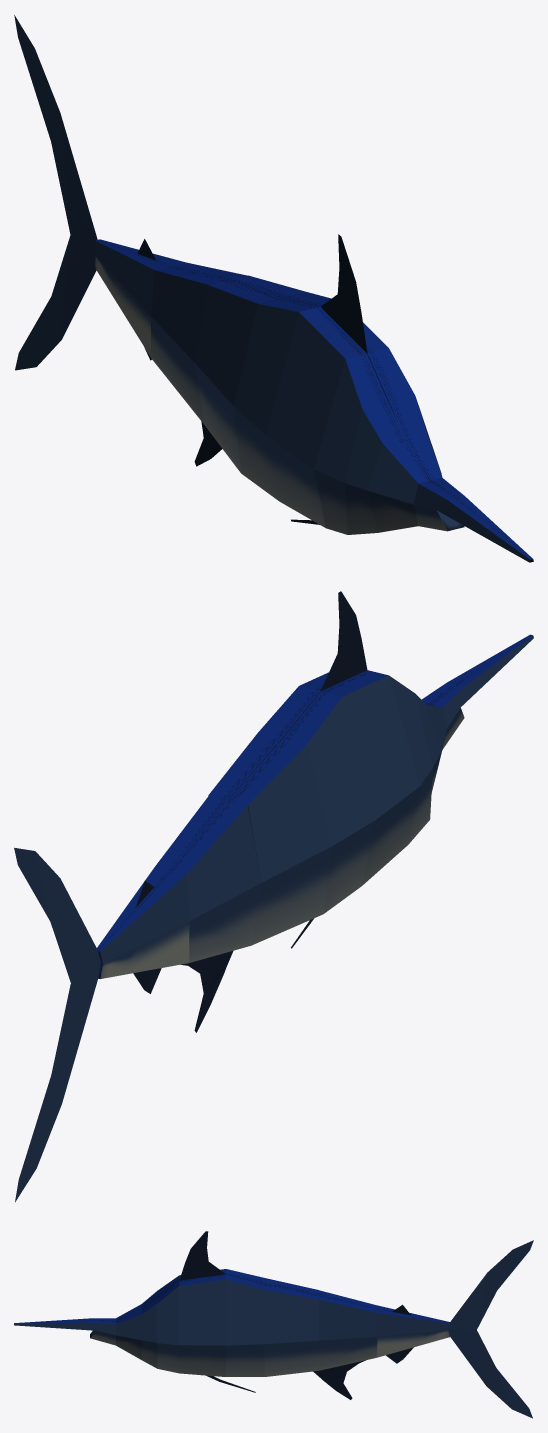
Rendered from fish_1.glb.
3 renders of one model, top to bottom at view 1: azimuth 30°, elevation 25°; view 2: azimuth 150°, elevation 25°; view 3: azimuth 270°, elevation 25°, orthographic. The views are drawn at different scales.
Visible parts, largest first — view 1: Cube_Material.006_0; view 2: Cube_Material.006_0; view 3: Cube_Material.006_0.
Part boxes in pixels (x1,y1,x2,y2): Cube_Material.006_0: (14,15,533,562); Cube_Material.006_0: (14,591,533,1202); Cube_Material.006_0: (14,1231,533,1418).
Size of the model in its own units: 19.28 by 62.85 by 158.
Materials: 1 (1 with a texture image).
